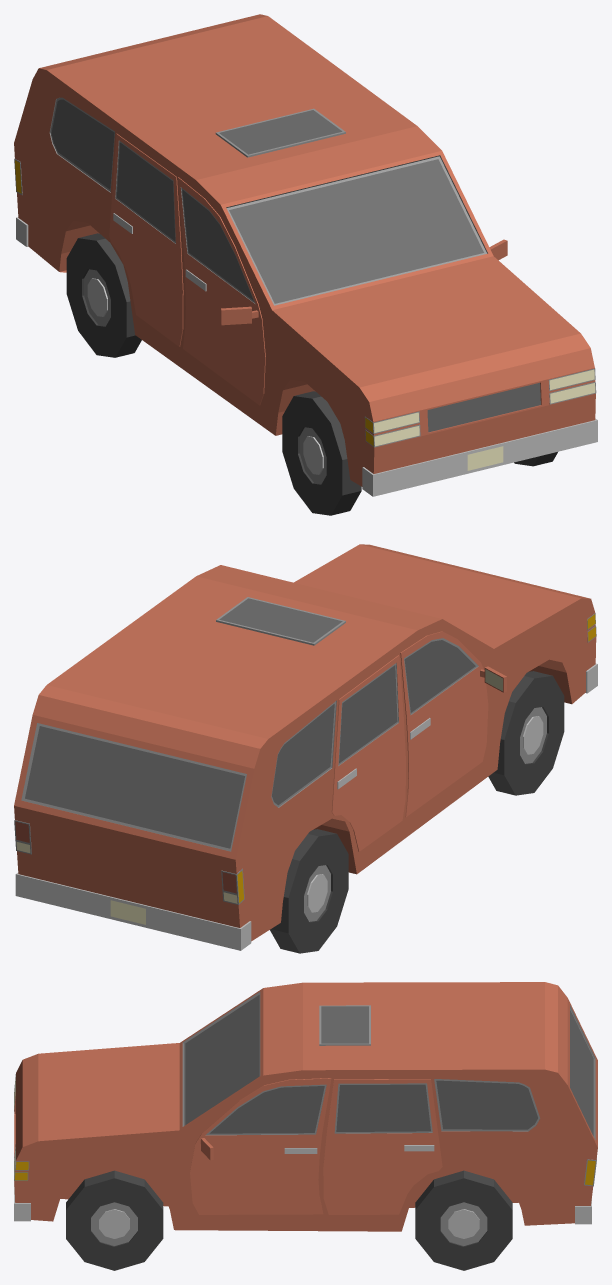
The model's file is SUV_1.fbx.
3 renders of one model, top to bottom at view 1: azimuth 30°, elevation 25°; view 2: azimuth 150°, elevation 25°; view 3: azimuth 270°, elevation 25°, orthographic. The views are drawn at different scales.
Visible parts, largest first — view 1: fg, Cylinder_2_3, Cylinder_2_1; view 2: fg, Cylinder_2_1, Cylinder_2_3; view 3: fg, Cylinder_2, Cylinder_2_2.
Boxes of the visible parts, x1,y1,x2,y2 form: fg: [14, 14, 597, 496]; Cylinder_2_3: [282, 391, 361, 515]; Cylinder_2_1: [66, 233, 141, 357]; fg: [14, 544, 597, 950]; Cylinder_2_1: [270, 829, 348, 953]; Cylinder_2_3: [488, 671, 564, 795]; fg: [14, 982, 597, 1231]; Cylinder_2: [415, 1170, 512, 1270]; Cylinder_2_2: [66, 1170, 163, 1270].
Size of the model in its own units: 169 by 141 by 369.
